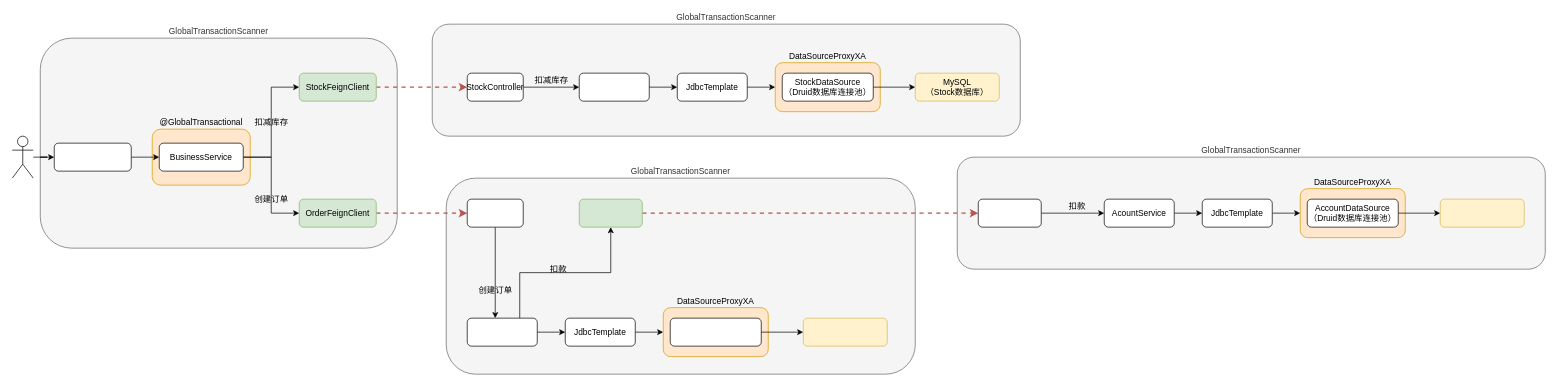
The diagram is 1558 pixels wide and 386 high, and some of its shapes have lost their labels. The shapes that lost their labels are listed below. From the top down, each one's centre as x and y in pixels, then its label:
point (614, 86): StockService
point (92, 156): BusinessController
point (495, 212): OrderController
point (610, 212): AccountFeignClient
point (1009, 212): AccountController
point (1482, 212): MySQL （Account数据库）
point (502, 331): OrderService
point (715, 331): OrderDataSource （Druid数据库连接池）
point (845, 331): MySQL （Order数据库）
